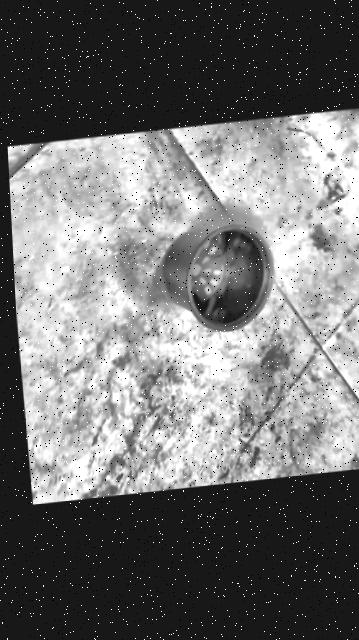pot: (159, 220, 279, 338)
